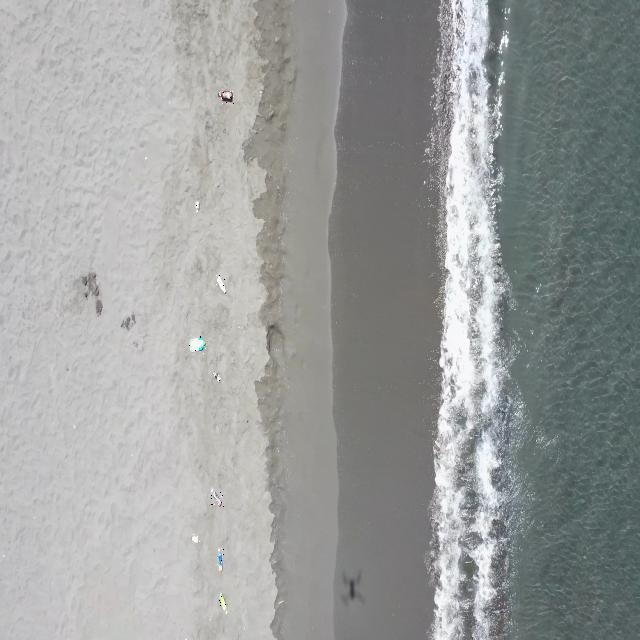Garbage: (188, 336, 204, 350), (216, 89, 232, 101), (216, 273, 226, 292), (211, 488, 221, 506), (216, 547, 223, 572), (219, 593, 227, 612), (212, 371, 220, 380), (193, 200, 199, 211), (192, 535, 198, 543)
